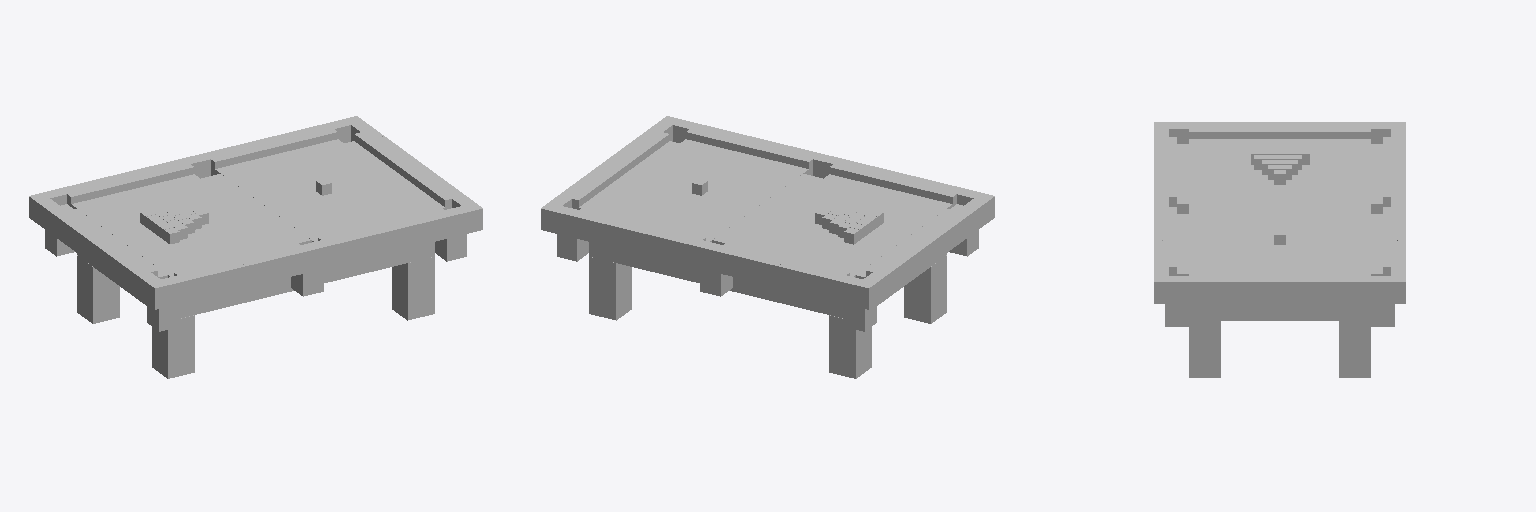
Rendered from 1232_billard_table.obj.
The picture shows the model from 3 angles: view 1: azimuth 30°, elevation 25°; view 2: azimuth 150°, elevation 25°; view 3: azimuth 270°, elevation 25°; orthographic projection.
Parts seen in each view (by area): view 1: basea, baseb, frontwall, rightwall, base2, base, backwall, leg1, leg4, leg3, lefttwall, backwalla (+6 smaller); view 2: basea, baseb, backwall, rightwall, base2, base, frontwall, leg2, leg3, leg4, lefttwall, frontwalla (+6 smaller); view 3: basea, baseb, lefttwall, base2, base, rightwall, frontwall, backwall, leg1, leg2, rightwallb, leftwallb (+6 smaller).
Part boxes in pixels (x1,y1,x2,y2): basea: (215, 139, 432, 241); baseb: (71, 174, 288, 277); frontwall: (161, 206, 469, 305); rightwall: (29, 193, 168, 309); base2: (77, 242, 434, 318); base: (74, 141, 444, 278); backwall: (43, 119, 350, 205); leg1: (392, 257, 434, 320); leg4: (152, 315, 194, 378); leg3: (77, 255, 119, 323); lefttwall: (344, 116, 482, 232); backwalla: (211, 129, 337, 175); basea: (591, 139, 808, 241); baseb: (735, 174, 952, 277); backwall: (554, 206, 862, 305); rightwall: (855, 193, 994, 309); base2: (589, 242, 946, 318); base: (579, 141, 949, 278); frontwall: (673, 119, 980, 205); leg2: (589, 257, 631, 320); leg3: (829, 315, 871, 378); leg4: (904, 255, 946, 323); lefttwall: (541, 116, 679, 232); frontwalla: (686, 129, 812, 175); basea: (1177, 214, 1382, 275); baseb: (1177, 144, 1382, 213); lefttwall: (1154, 276, 1405, 303); base2: (1189, 304, 1370, 320); base: (1189, 139, 1370, 213); rightwall: (1154, 122, 1405, 143); frontwall: (1154, 129, 1168, 275); backwall: (1391, 129, 1405, 275); leg1: (1189, 321, 1220, 377); leg2: (1339, 321, 1370, 377); rightwallb: (1189, 129, 1370, 138); leftwallb: (1189, 272, 1370, 275).
Bounding box in the file's own units: 3 × 0.9997 × 2.